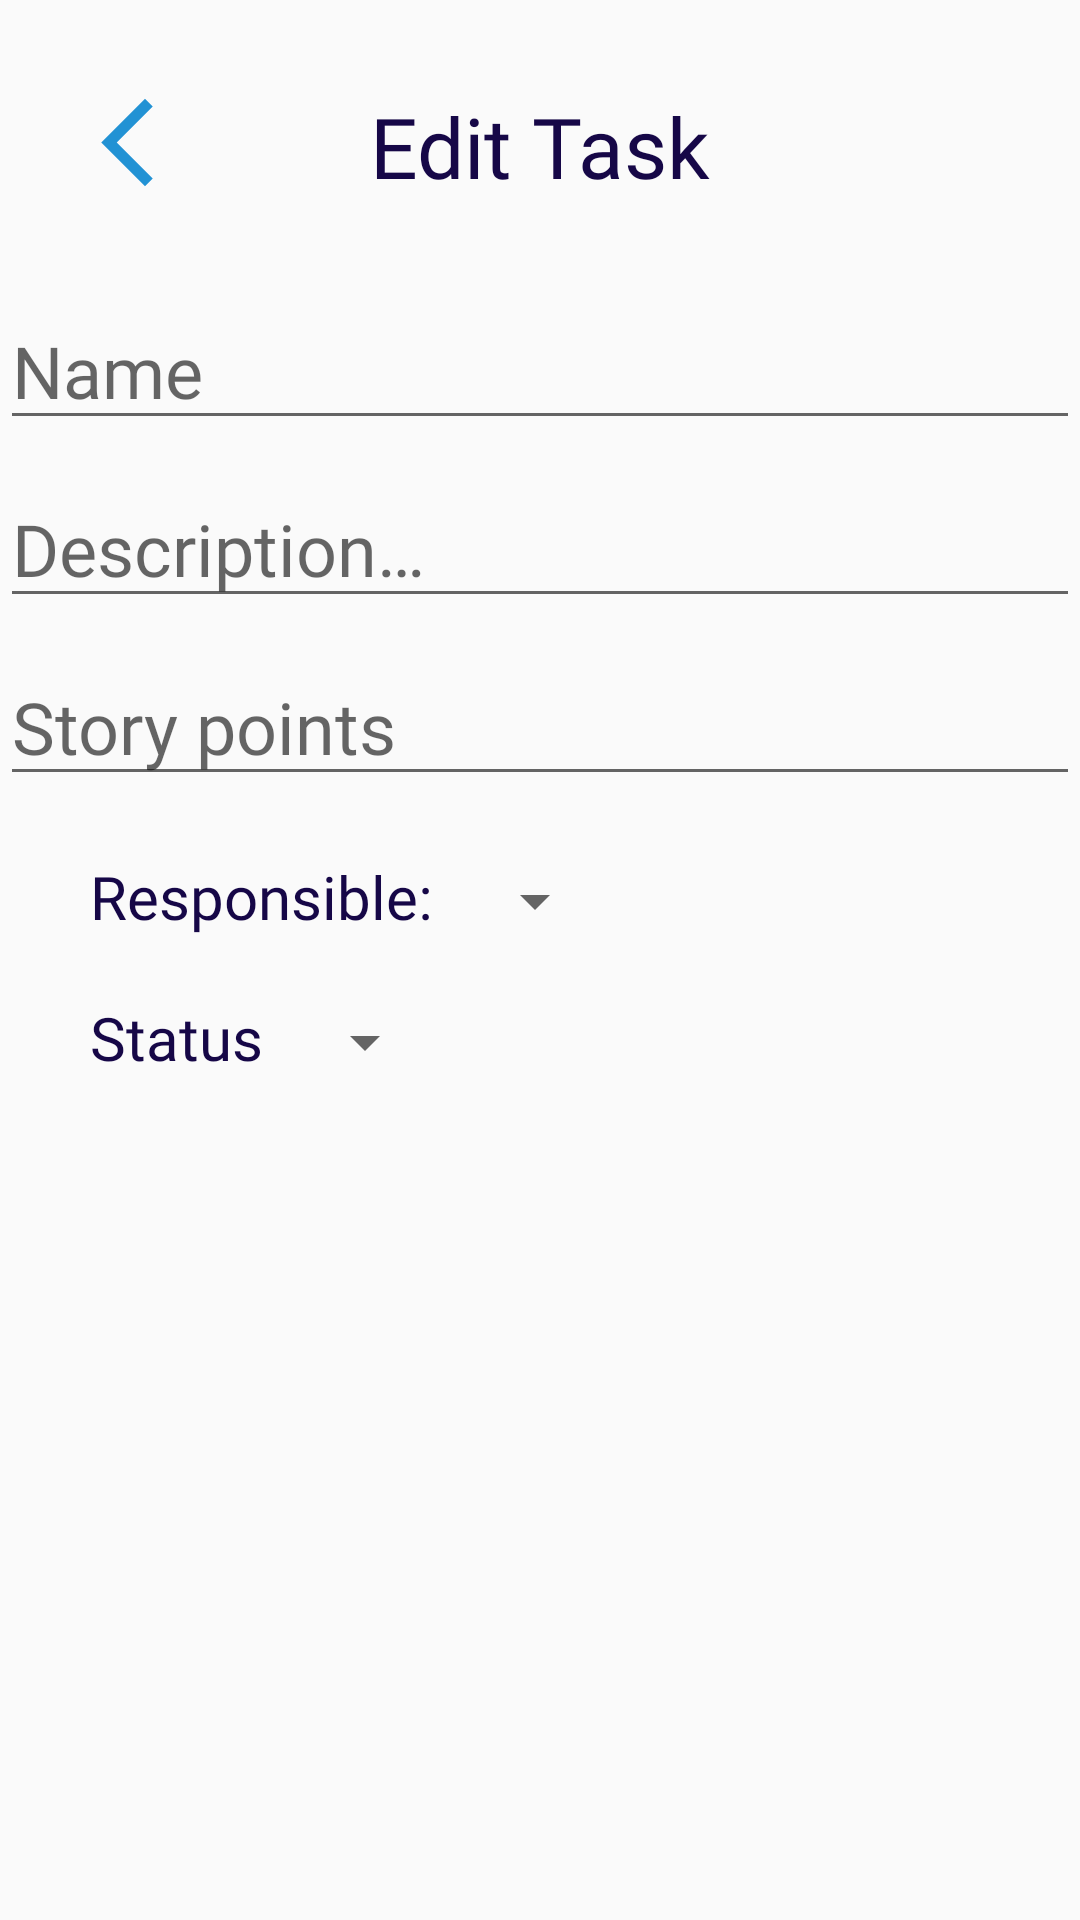

Screen size 1080w x 1920h. Icon name, then its center in pixels as (x=x, y=y):
back: (x=127, y=142)
